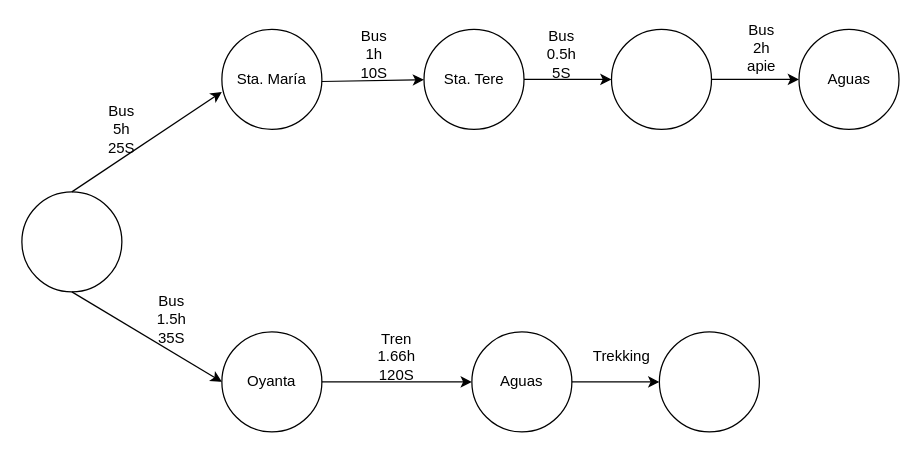
This 921x454 diagram has some shape labels left out. Each missing label, with the centre of its shape:
Cusco: point 71,241
Hidro: point 661,78
Machu: point 708,381
